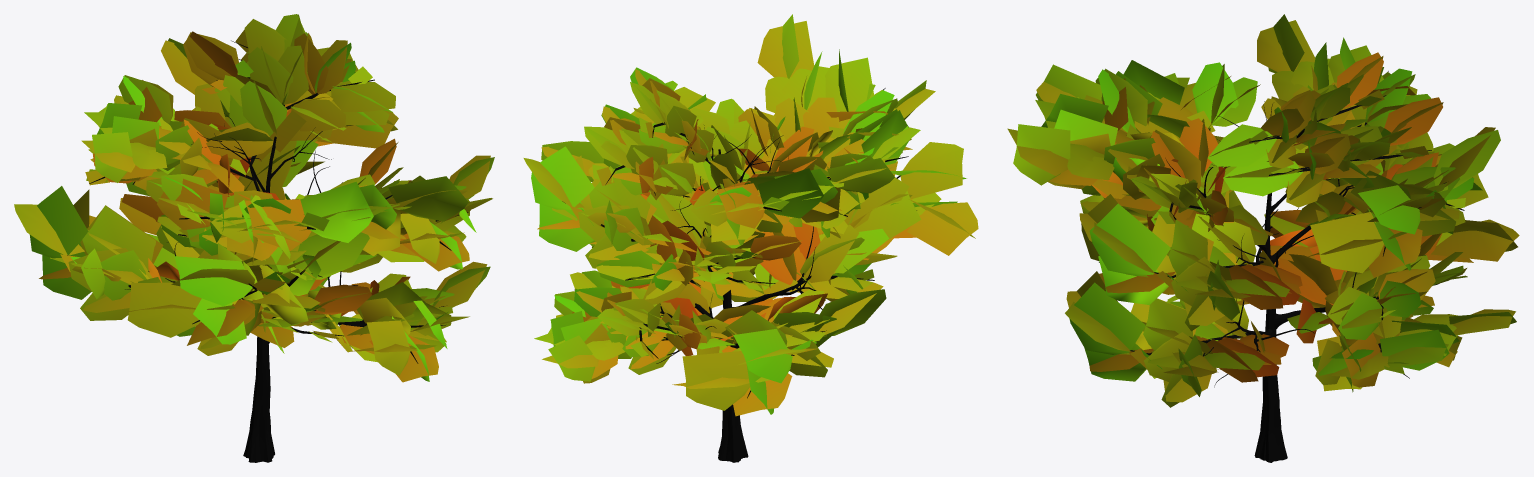
File: Tree_med_1.glb
3 views of the same model, side by side, from view 1: azimuth 30°, elevation 25°; view 2: azimuth 150°, elevation 25°; view 3: azimuth 270°, elevation 25° (orthographic). The views are drawn at different scales.
Visible parts, largest first — view 1: Tree med 1; view 2: Tree med 1; view 3: Tree med 1.
Boxes of the visible parts, x1,y1,x2,y2 form: Tree med 1: [14, 14, 494, 462]; Tree med 1: [523, 14, 978, 462]; Tree med 1: [1007, 14, 1519, 462].
Size of what is drawn, in the model's own units: 35.07 by 32.55 by 37.28.
